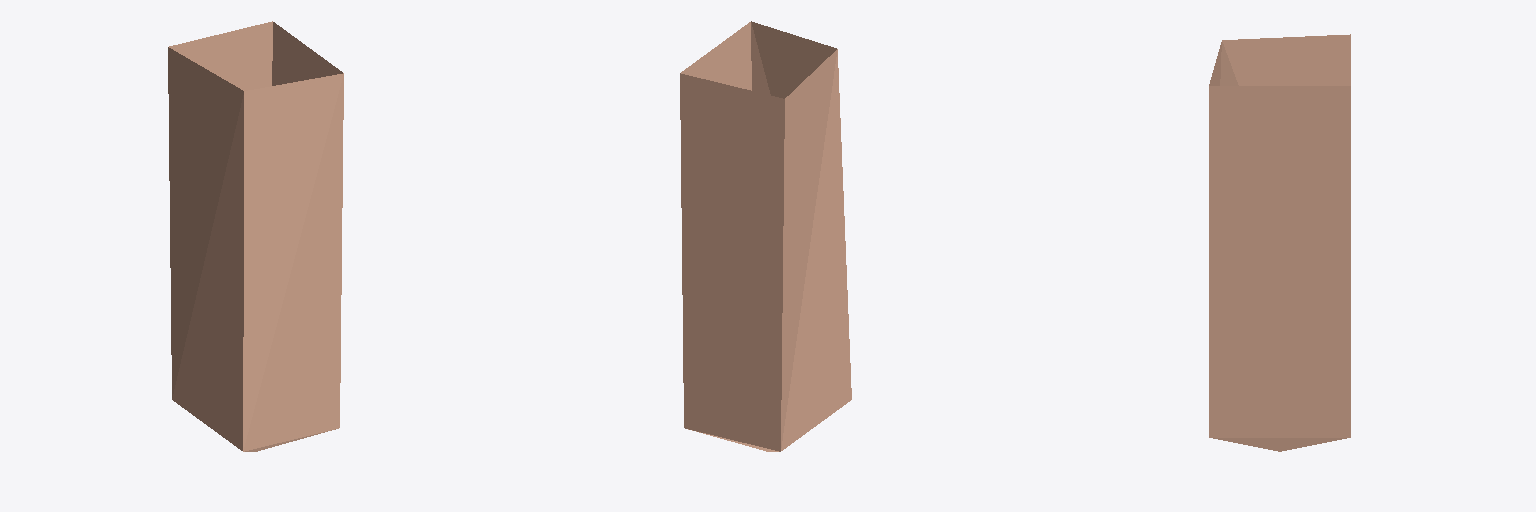
3 renders of one model, left to right at view 1: azimuth 30°, elevation 25°; view 2: azimuth 150°, elevation 25°; view 3: azimuth 270°, elevation 25°, orthographic.
Parts seen in each view (by area): view 1: 05_LEFT_ARM; view 2: 05_LEFT_ARM; view 3: 05_LEFT_ARM.
Part boxes in pixels (x1,y1,x2,y2): 05_LEFT_ARM: (168, 21, 343, 451); 05_LEFT_ARM: (680, 21, 851, 451); 05_LEFT_ARM: (1209, 34, 1350, 451).
Size of the model in its own units: 0.058 by 0.2068 by 0.068.
Materials: 1 (1 with a texture image).